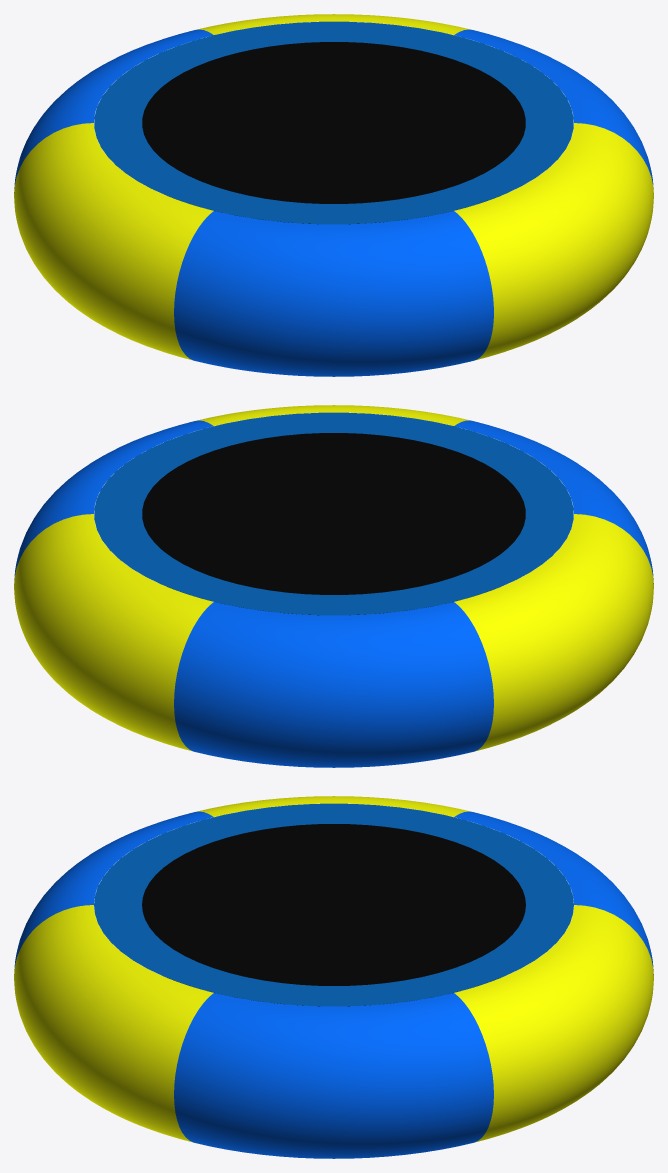
The model's file is trampoline.glb.
3 renders of one model, top to bottom at view 1: azimuth 30°, elevation 25°; view 2: azimuth 150°, elevation 25°; view 3: azimuth 270°, elevation 25°, orthographic.
Visible parts, largest first — view 1: trampoline; view 2: trampoline; view 3: trampoline.
Part boxes in pixels (box(x1,y1,x2,y2)): trampoline: box(14, 14, 653, 376); trampoline: box(14, 405, 653, 767); trampoline: box(14, 796, 653, 1158).
Bounding box in the file's own units: 3.2 × 0.8 × 3.2.
